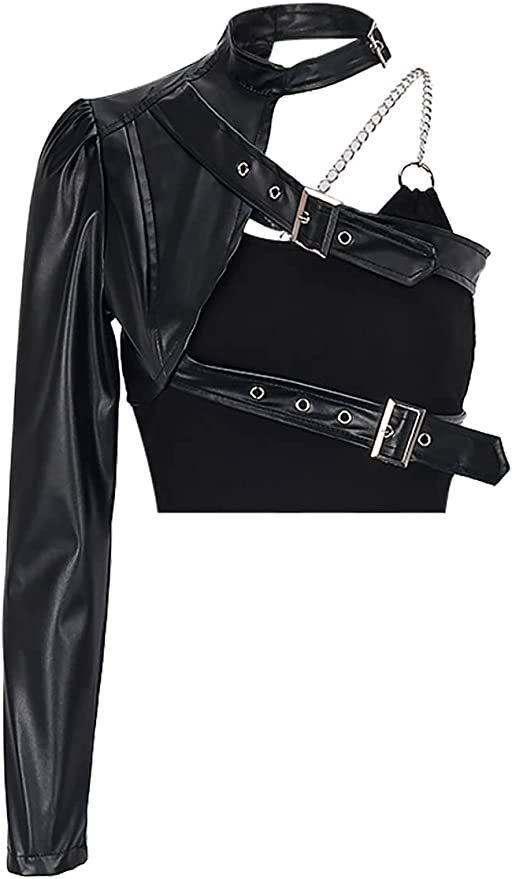cuero: (7, 4, 506, 875)
